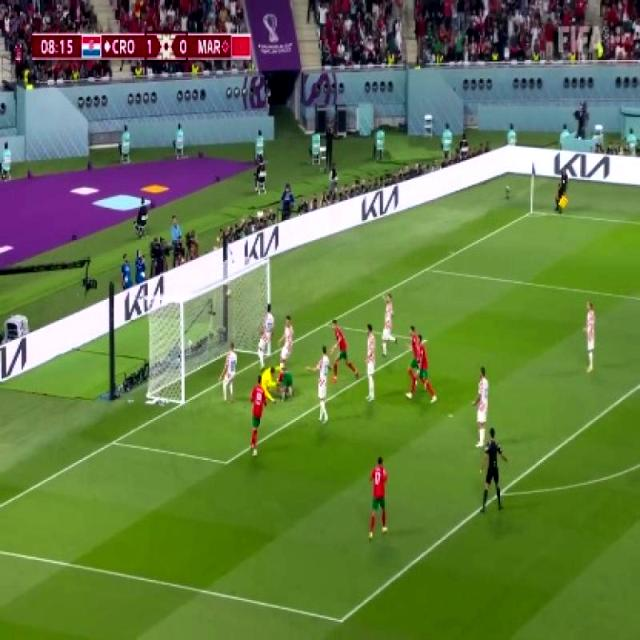bigarea_bottom_inner: (328, 602, 354, 636)
bigarea_top_outter: (418, 257, 437, 278)
corner: (522, 203, 543, 220)
smallarea_bottom_inner: (214, 446, 236, 477)
smallarea_bottom_outter: (102, 428, 123, 456)
smallarea_top_inner: (418, 328, 434, 349)
smallarea_top_outter: (316, 311, 334, 334)
